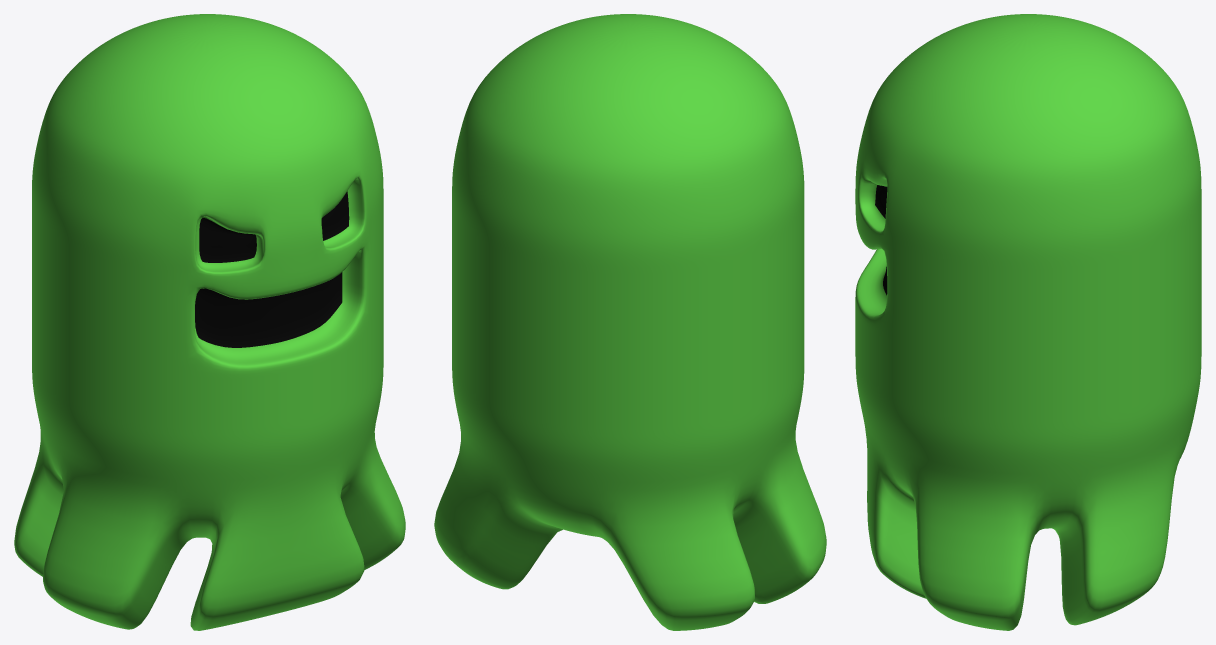
The model's file is Ghost1_animated.fbx.
3 views of the same model, side by side, from view 1: azimuth 30°, elevation 25°; view 2: azimuth 150°, elevation 25°; view 3: azimuth 270°, elevation 25° (orthographic).
Parts seen in each view (by area): view 1: Ghost; view 2: Ghost; view 3: Ghost.
Boxes of the visible parts, x1=… form: Ghost: x1=14, y1=14, x2=405, y2=630; Ghost: x1=434, y1=14, x2=826, y2=630; Ghost: x1=855, y1=14, x2=1201, y2=630.
Size of the model in its own units: 226 by 340 by 198.
